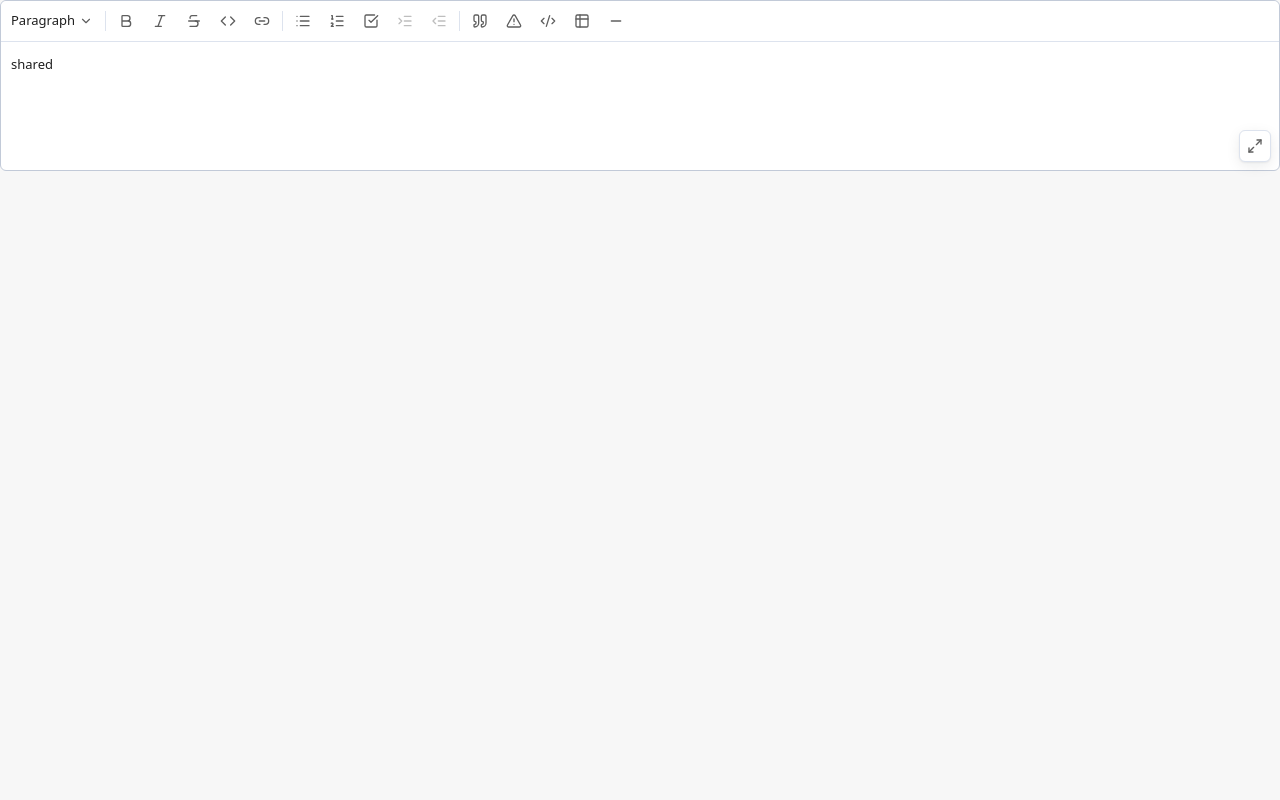
Scenario: RichTextEditor › opens the same editor full screen and Done returns to the box
This screenshot has width=1280, height=800.
Expected: the field named "Notes" is shown, [11,55,53,73]
Click the button named "Open full screen".
click(1255, 146)  # box [1239,130,1271,162]
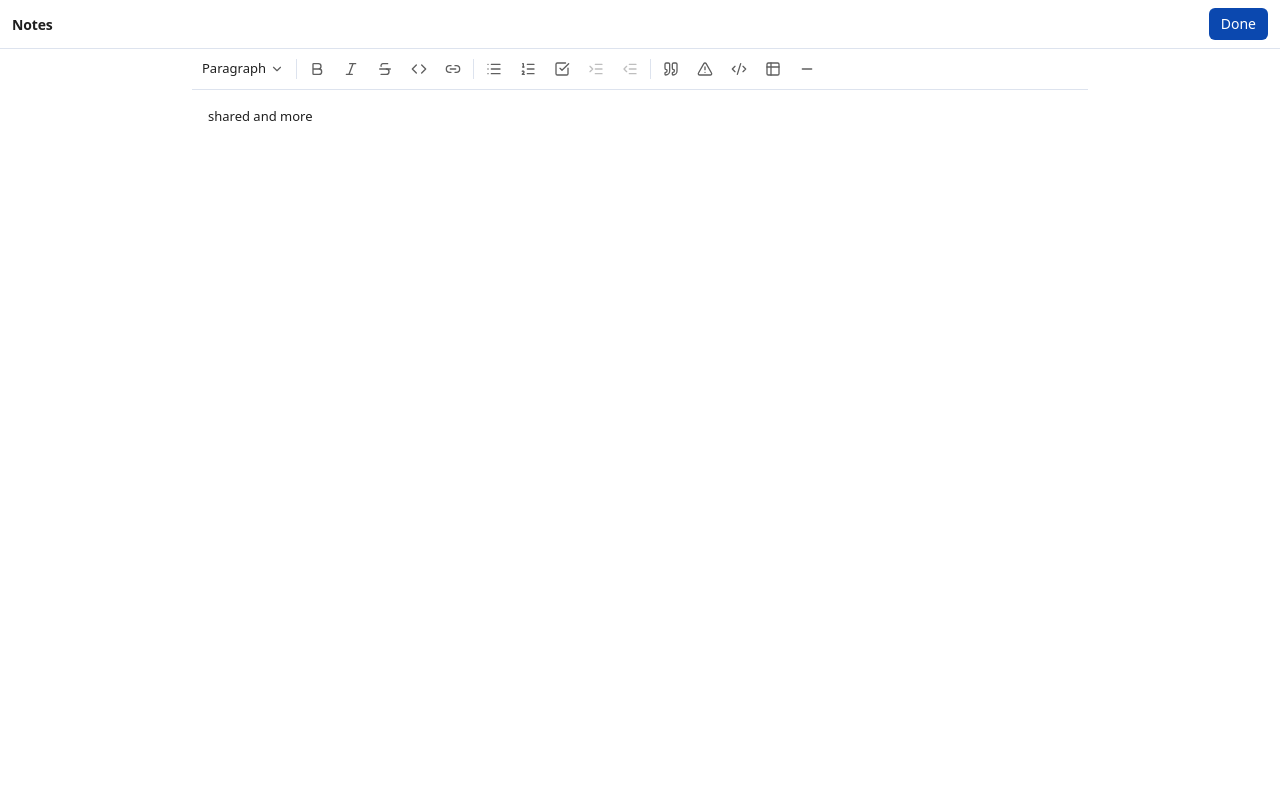
Expected: the field named "Notes" shows "shared", [208,107,312,125]
Click the button "Done".
click(1238, 24)  # box [1209,8,1268,40]
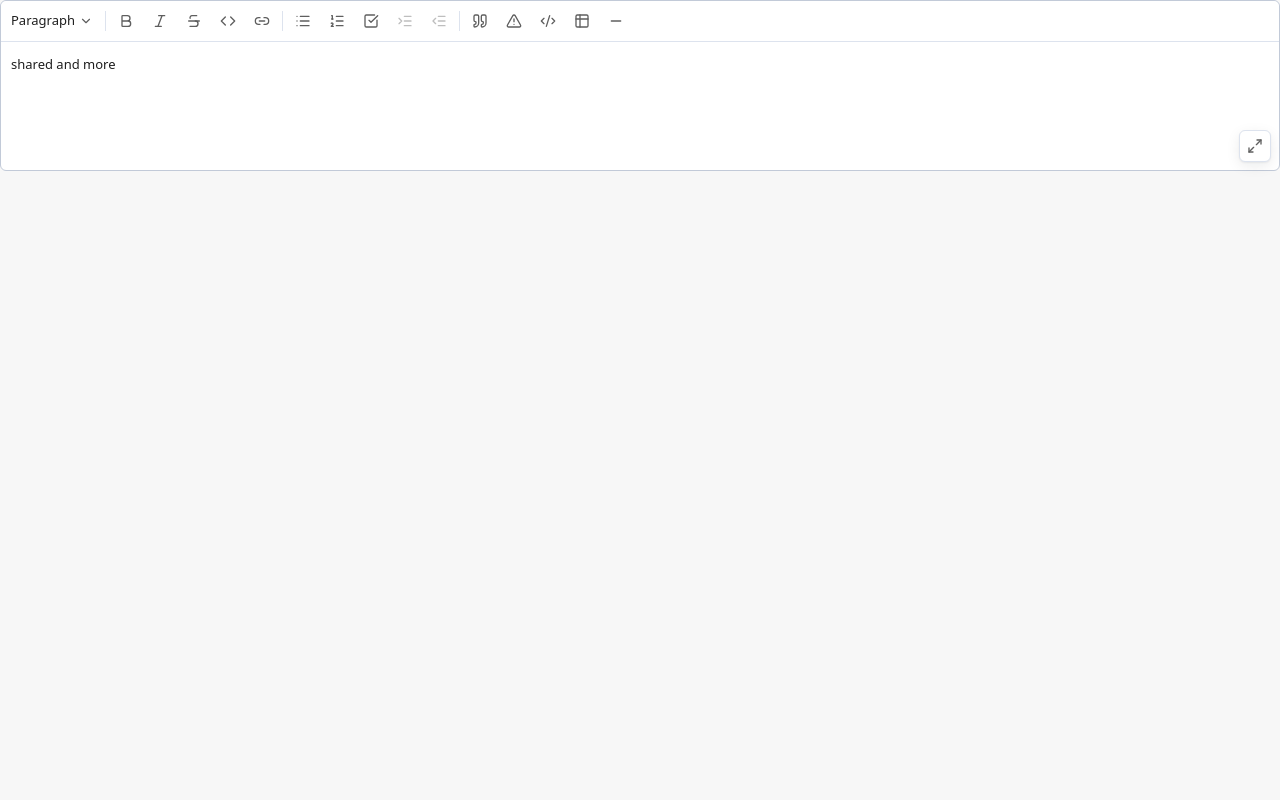
Expected: the field named "Notes" reads "shared and more", [11,55,116,73]
Expected: the dialog is gone
